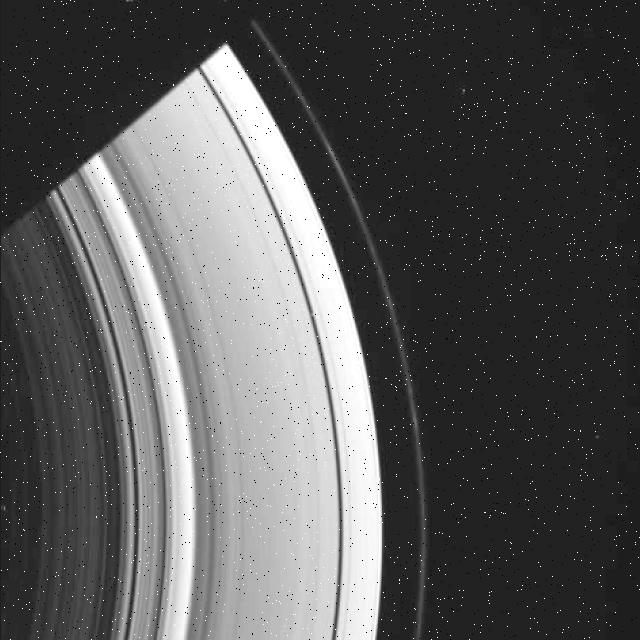Saturn: (0, 13, 426, 640)
